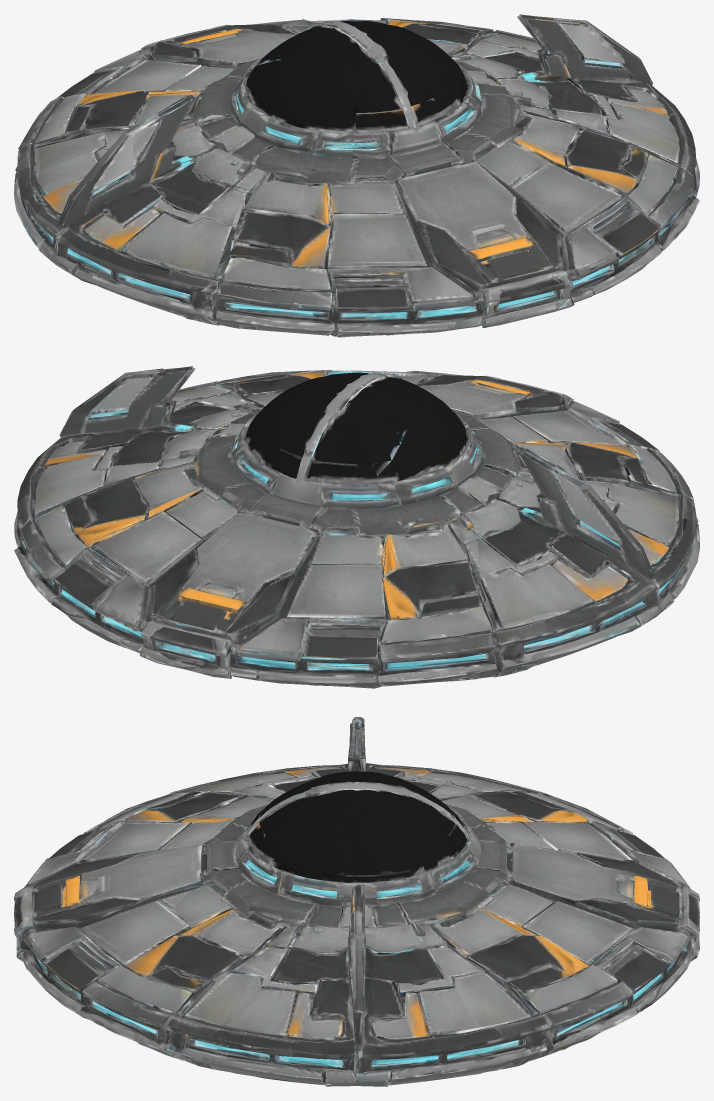
File: probe_ufo_preview.glb
3 renders of one model, top to bottom at view 1: azimuth 30°, elevation 25°; view 2: azimuth 150°, elevation 25°; view 3: azimuth 270°, elevation 25°, orthographic.
Size of the model in its own units: 0.9556 by 0.4019 by 0.9526.
Materials: 1 (1 with a texture image).
